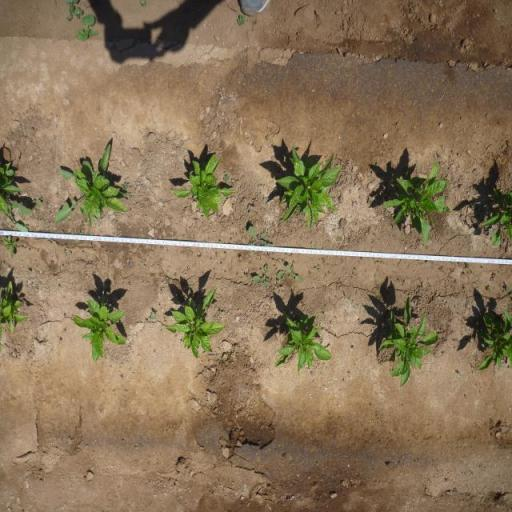plant: (376, 290, 440, 390), (382, 160, 452, 250), (276, 142, 344, 234), (164, 286, 223, 358), (274, 309, 332, 376), (171, 153, 223, 220), (72, 300, 126, 362), (73, 170, 122, 229), (475, 307, 512, 372), (478, 183, 512, 247), (0, 278, 29, 336), (0, 160, 18, 214)
weed: (5, 194, 41, 232), (76, 13, 98, 42), (247, 224, 275, 246), (250, 262, 272, 288), (0, 235, 19, 260), (277, 264, 303, 282), (64, 0, 82, 22), (98, 282, 112, 305), (120, 180, 130, 192), (236, 14, 246, 26), (89, 242, 98, 255), (488, 271, 498, 282), (222, 170, 230, 182), (185, 280, 196, 288), (229, 177, 237, 186), (314, 263, 321, 273), (276, 277, 286, 284), (150, 310, 158, 318), (139, 0, 147, 8), (505, 283, 511, 293), (440, 265, 446, 274), (145, 318, 153, 324), (486, 286, 492, 294), (464, 262, 470, 270), (310, 241, 316, 249), (366, 199, 373, 205), (244, 272, 249, 280), (62, 326, 67, 334), (58, 336, 63, 344), (46, 238, 52, 244), (26, 269, 32, 274), (64, 248, 67, 258), (224, 251, 228, 257), (68, 250, 72, 255), (218, 240, 222, 244)
